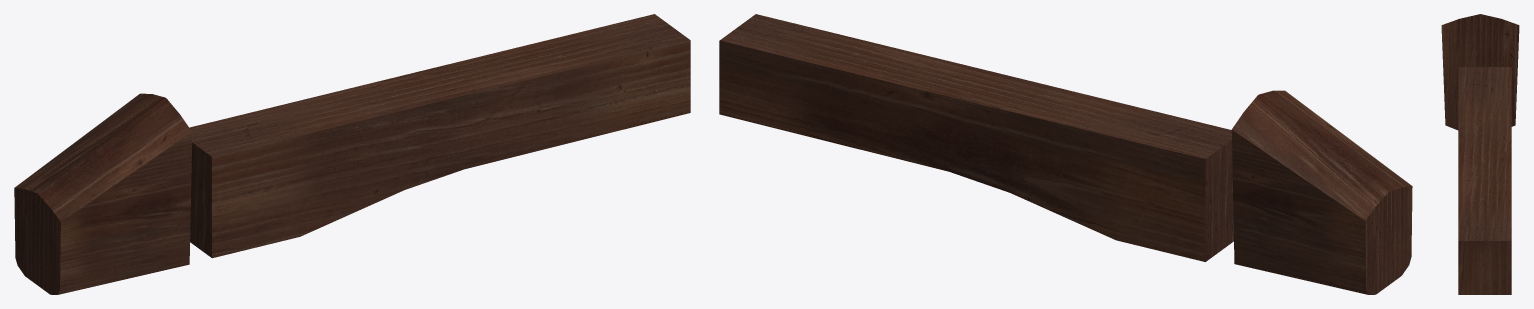
Rendered from SM_R_Beam_38.fbx.
The picture shows the model from 3 angles, left to right: view 1: azimuth 30°, elevation 25°; view 2: azimuth 150°, elevation 25°; view 3: azimuth 270°, elevation 25°; orthographic projection. The views are drawn at different scales.
Parts seen in each view (by area): view 1: SM_R_Beam_38; view 2: SM_R_Beam_38; view 3: SM_R_Beam_38.
Boxes of the visible parts, bbox=[...] form: SM_R_Beam_38: bbox=[14, 14, 690, 294]; SM_R_Beam_38: bbox=[719, 14, 1412, 294]; SM_R_Beam_38: bbox=[1441, 14, 1519, 294].
Bounding box in the file's own units: 176 × 25.08 × 41.55.
1 material, 1 textured.
